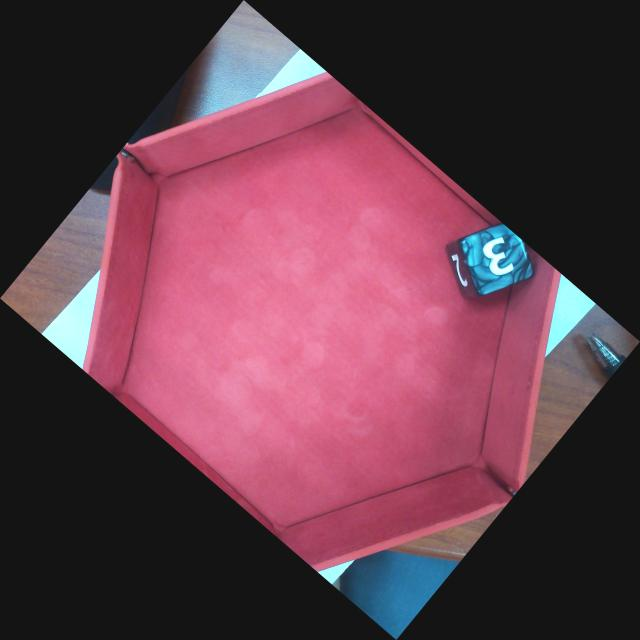dice: (463, 224, 533, 293)
